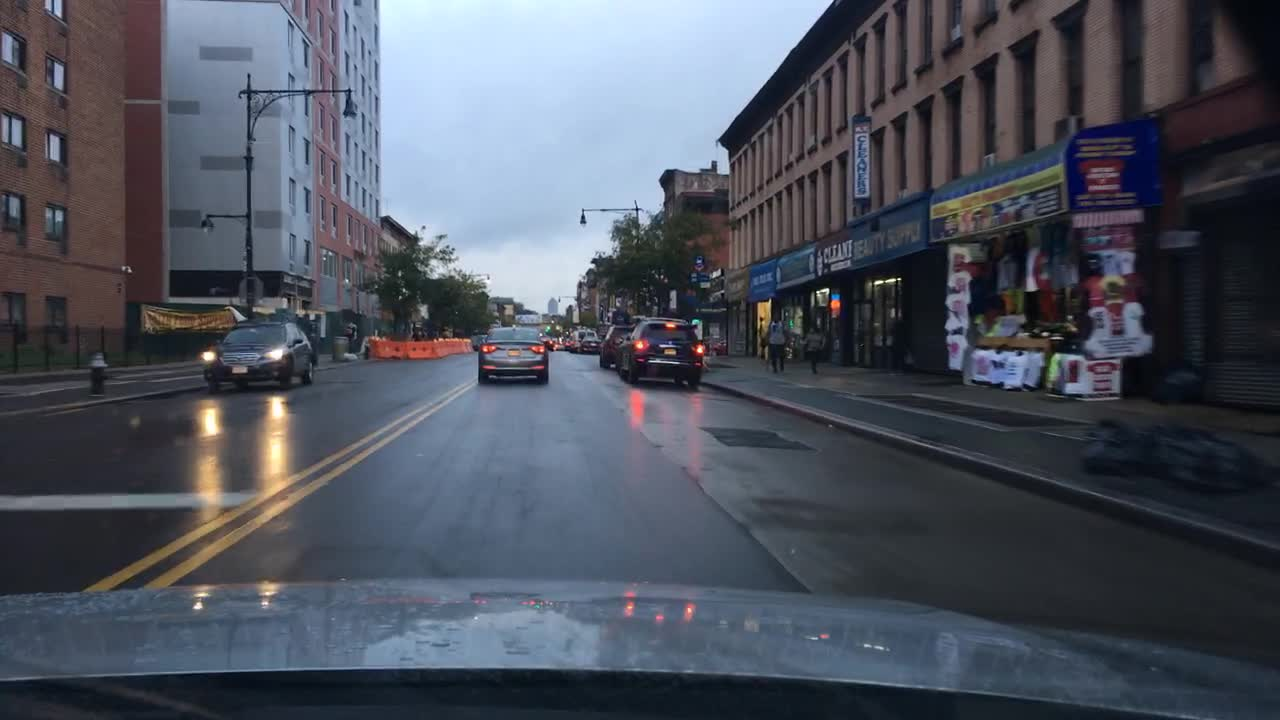car: (202, 318, 317, 393), (615, 315, 705, 388), (477, 323, 549, 385), (598, 323, 635, 369), (578, 334, 606, 354), (571, 328, 595, 351), (470, 333, 487, 351), (710, 339, 729, 355), (540, 333, 554, 351), (562, 336, 572, 348), (554, 340, 564, 350)
person: (765, 309, 792, 372), (802, 324, 827, 372), (344, 317, 356, 354)
traffic light: (689, 318, 701, 325), (543, 324, 550, 333)
traffic sign: (689, 272, 706, 283), (698, 278, 711, 287), (693, 253, 703, 262), (694, 263, 706, 270)
